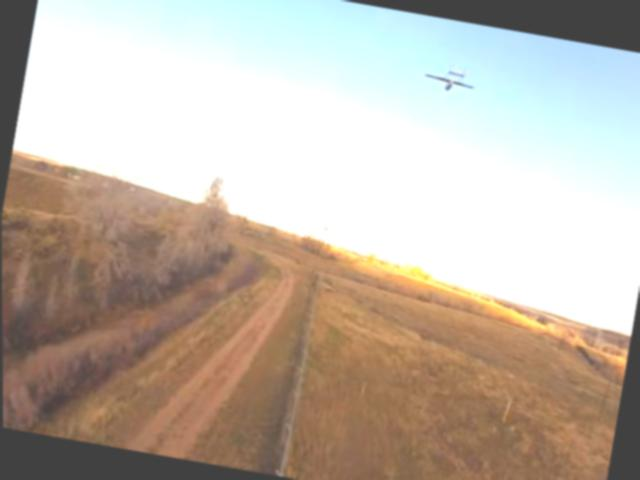uav: (422, 63, 479, 94)
